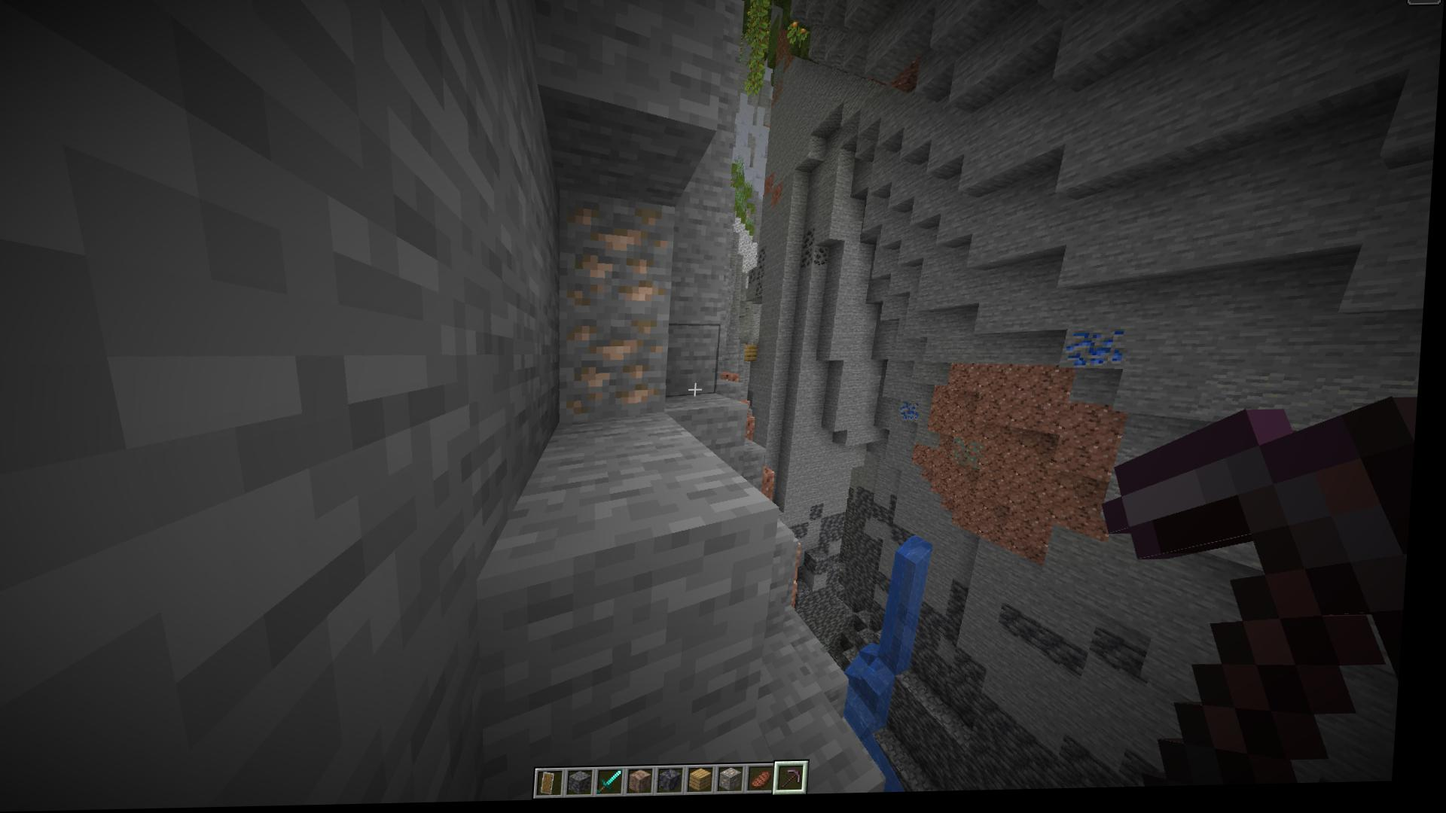iron ore: (558, 196, 677, 312), (560, 317, 671, 415)
